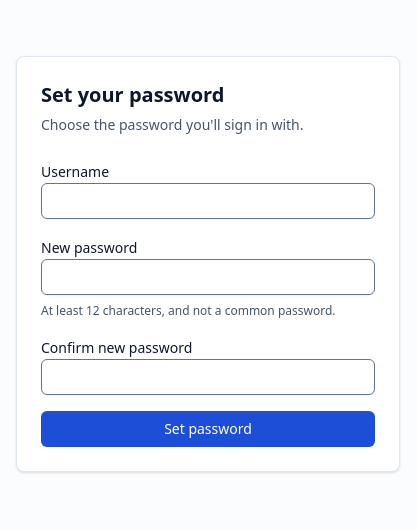
SetPasswordPage › shows the invalid-link message for a 400
Type "asha" into the field labelled "Username" at (208, 201), box top-left (41, 183), bottom-right (375, 219)
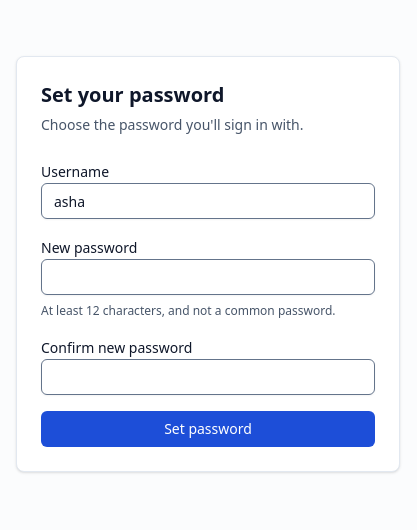
Type "a long new passphrase" into the password field labelled "New password" at (208, 277), box top-left (41, 259), bottom-right (375, 295)
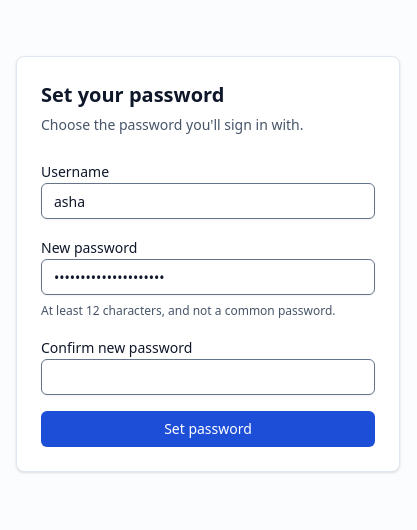
Type "a long new passphrase" into the password field labelled "Confirm new password" at (208, 377), box top-left (41, 359), bottom-right (375, 395)
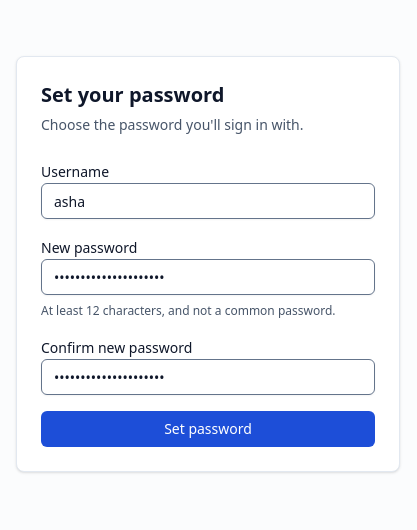
Click the button "Set password" at (208, 429), box top-left (41, 411), bottom-right (375, 447)
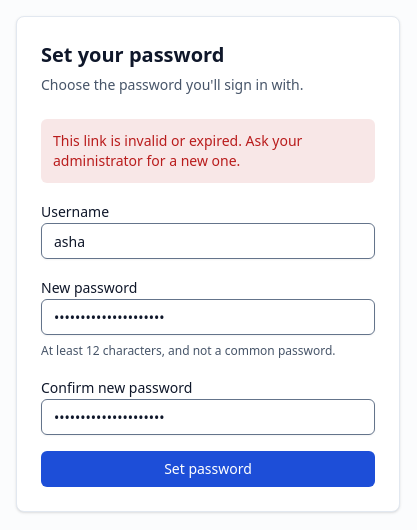
Expected: the message reads "This link is invalid or expired. Ask your administrator for a new one.", top-left (53, 131), bottom-right (302, 170)
